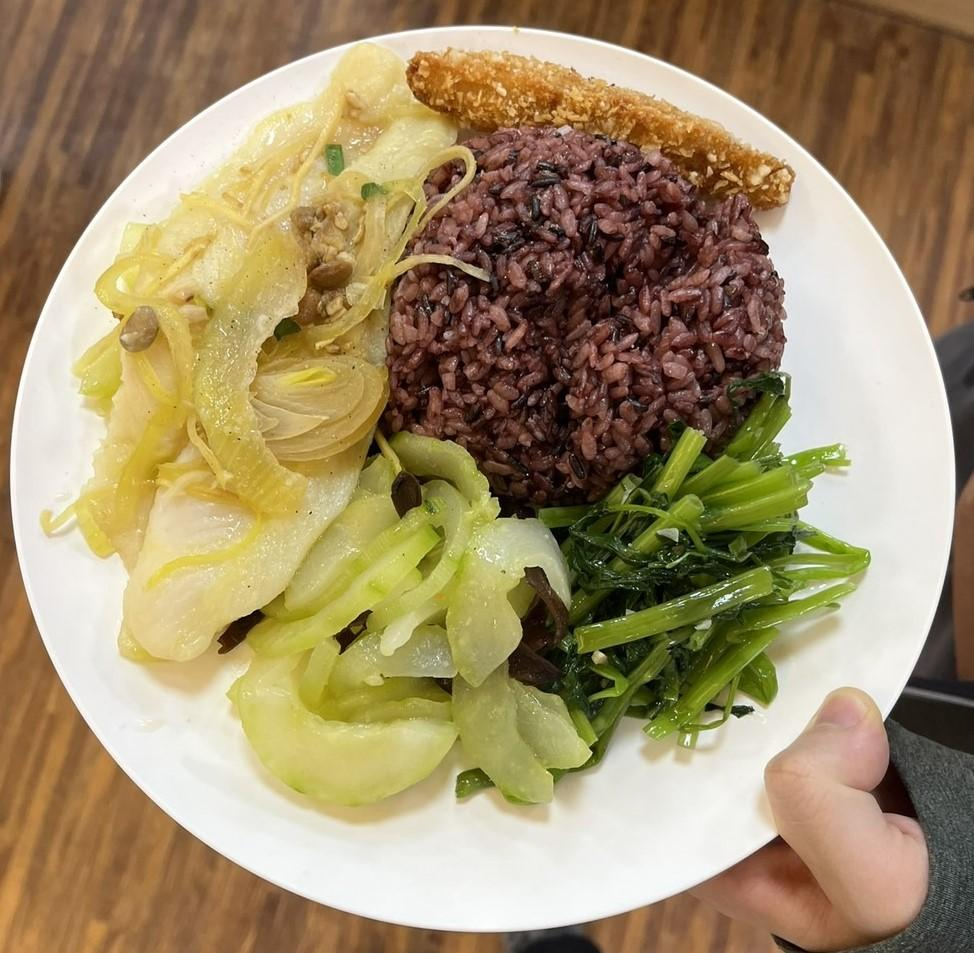big fried chicken leg: (6, 6, 953, 929)
braised fish: (380, 132, 782, 497)
braised fish fillet: (231, 443, 574, 815), (543, 388, 864, 764)
braised pork: (406, 40, 804, 217)
braised pork ribs: (89, 56, 444, 673)
